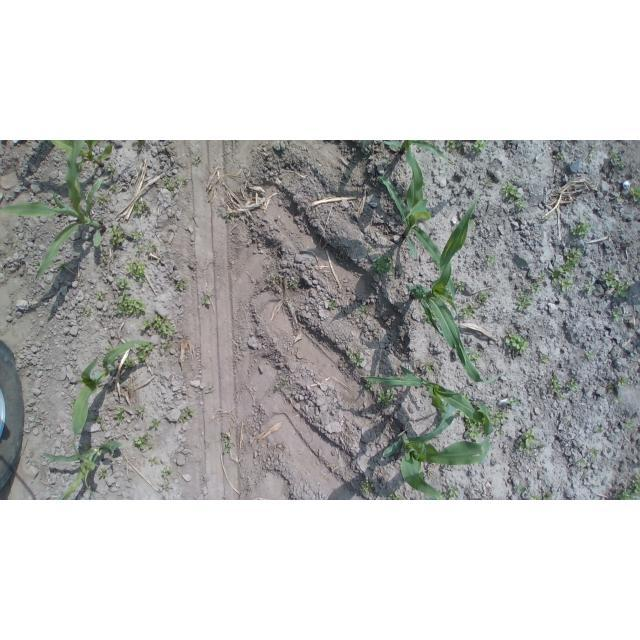Maize: (406, 195, 502, 383), (0, 141, 106, 280), (383, 391, 494, 500), (368, 365, 492, 436), (71, 341, 146, 437), (380, 149, 432, 260), (43, 441, 121, 500), (50, 140, 113, 170), (383, 141, 449, 164)
Weeds: (140, 313, 177, 339), (552, 247, 583, 277), (602, 267, 633, 297), (114, 292, 147, 317), (615, 472, 640, 500), (464, 414, 485, 442), (505, 331, 529, 355), (372, 253, 396, 275), (517, 428, 535, 455), (126, 260, 146, 284), (569, 216, 591, 236), (377, 385, 396, 407), (135, 341, 154, 363), (503, 182, 522, 202), (109, 224, 125, 246), (132, 433, 152, 450), (551, 376, 564, 401), (516, 292, 533, 311), (459, 303, 478, 319), (555, 276, 574, 292), (349, 349, 364, 367), (465, 348, 484, 362), (489, 411, 508, 425), (611, 152, 626, 168), (114, 406, 126, 424), (133, 201, 148, 215), (180, 408, 196, 421), (474, 140, 489, 153), (449, 483, 460, 500), (530, 492, 553, 500), (361, 479, 373, 494), (446, 141, 462, 152), (176, 176, 189, 189), (117, 277, 131, 289), (224, 434, 233, 452), (92, 416, 104, 429), (516, 199, 528, 212), (163, 177, 176, 189), (631, 186, 640, 203), (567, 379, 579, 391), (357, 304, 369, 316), (176, 280, 188, 292), (454, 281, 466, 292), (162, 467, 175, 477), (365, 380, 375, 393), (508, 396, 521, 406), (388, 492, 403, 500), (479, 291, 489, 303), (105, 162, 115, 174), (124, 358, 135, 368), (56, 262, 66, 273), (415, 285, 426, 295), (96, 196, 108, 205), (613, 310, 621, 323), (149, 456, 159, 466), (98, 468, 109, 477), (150, 420, 161, 429), (424, 362, 433, 373), (131, 229, 140, 240), (276, 380, 288, 388), (532, 282, 540, 293), (587, 281, 595, 292), (68, 399, 76, 410), (422, 312, 430, 323), (618, 378, 627, 387), (147, 244, 156, 253), (226, 212, 235, 221), (488, 255, 496, 265), (514, 486, 526, 492), (626, 420, 635, 428), (468, 220, 476, 229), (33, 261, 40, 271), (538, 274, 546, 282), (96, 292, 104, 300), (192, 156, 200, 164), (588, 451, 597, 458), (136, 246, 145, 253), (136, 141, 145, 148), (289, 280, 298, 287), (162, 482, 169, 490), (136, 407, 144, 414), (587, 351, 594, 359), (558, 152, 565, 160), (84, 308, 92, 315), (124, 381, 132, 388), (329, 300, 335, 309), (203, 299, 212, 305), (542, 356, 549, 363), (458, 409, 465, 416), (443, 492, 449, 500), (616, 396, 622, 404), (498, 428, 504, 436), (485, 177, 491, 185), (440, 297, 448, 303), (587, 150, 593, 158), (428, 496, 437, 501), (271, 278, 280, 283), (578, 459, 585, 465), (616, 196, 623, 202), (609, 384, 614, 392), (101, 255, 107, 261), (596, 428, 602, 433), (162, 343, 167, 349), (368, 245, 373, 251), (112, 184, 116, 190), (539, 445, 543, 450), (412, 275, 416, 279), (564, 416, 568, 420), (52, 322, 57, 325)
